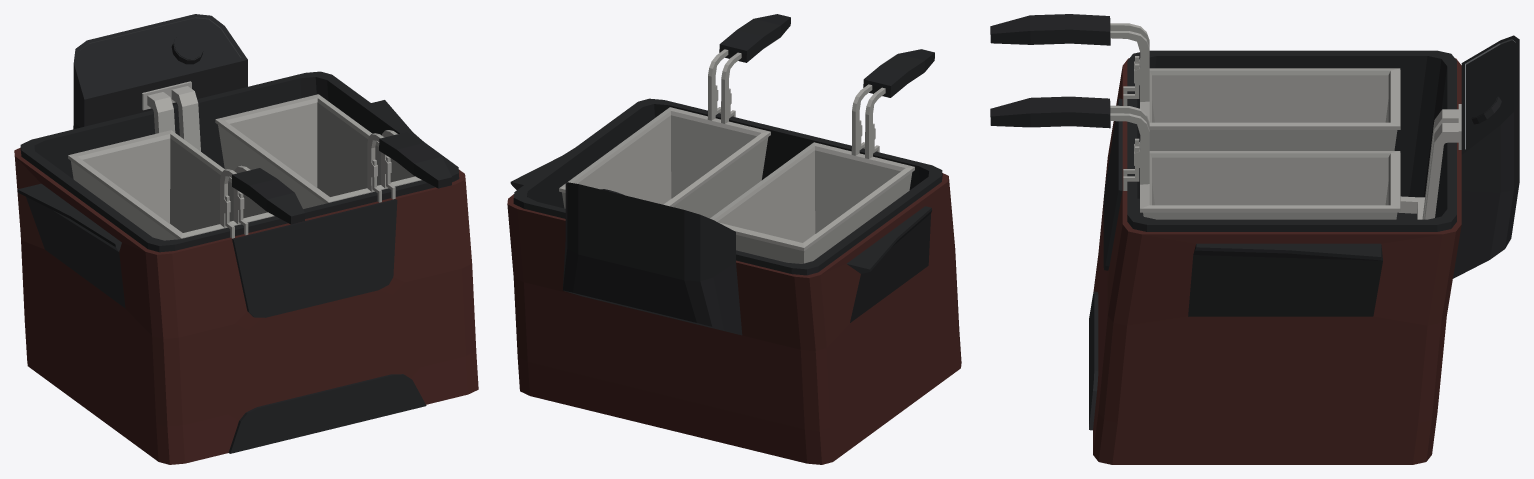
Rendered from deepfryer_01_C.gltf.
The picture shows the model from 3 angles, left to right: view 1: azimuth 30°, elevation 25°; view 2: azimuth 150°, elevation 25°; view 3: azimuth 270°, elevation 25°; orthographic projection. The views are drawn at different scales.
Parts seen in each view (by area): view 1: deepfryer_01_C, sievefordeepfryer_02_C, sievefordeepfryer_01_C, Buttonfordeepfryer_01_C; view 2: deepfryer_01_C, sievefordeepfryer_01_C, sievefordeepfryer_02_C; view 3: deepfryer_01_C, sievefordeepfryer_01_C, sievefordeepfryer_02_C, Buttonfordeepfryer_01_C.
Boxes of the visible parts, box(x1,y1,x2,y2) form: deepfryer_01_C: box(14, 14, 478, 464); sievefordeepfryer_02_C: box(215, 94, 452, 208); sievefordeepfryer_01_C: box(68, 130, 304, 240); Buttonfordeepfryer_01_C: box(171, 33, 203, 64); deepfryer_01_C: box(507, 98, 961, 464); sievefordeepfryer_01_C: box(710, 49, 934, 263); sievefordeepfryer_02_C: box(559, 14, 790, 218); deepfryer_01_C: box(1089, 35, 1519, 464); sievefordeepfryer_01_C: box(990, 14, 1400, 150); sievefordeepfryer_02_C: box(990, 96, 1400, 219); Buttonfordeepfryer_01_C: box(1469, 94, 1501, 124).
Size of the model in its own units: 0.575 by 0.4175 by 0.6241.
Materials: 1 (1 with a texture image).
